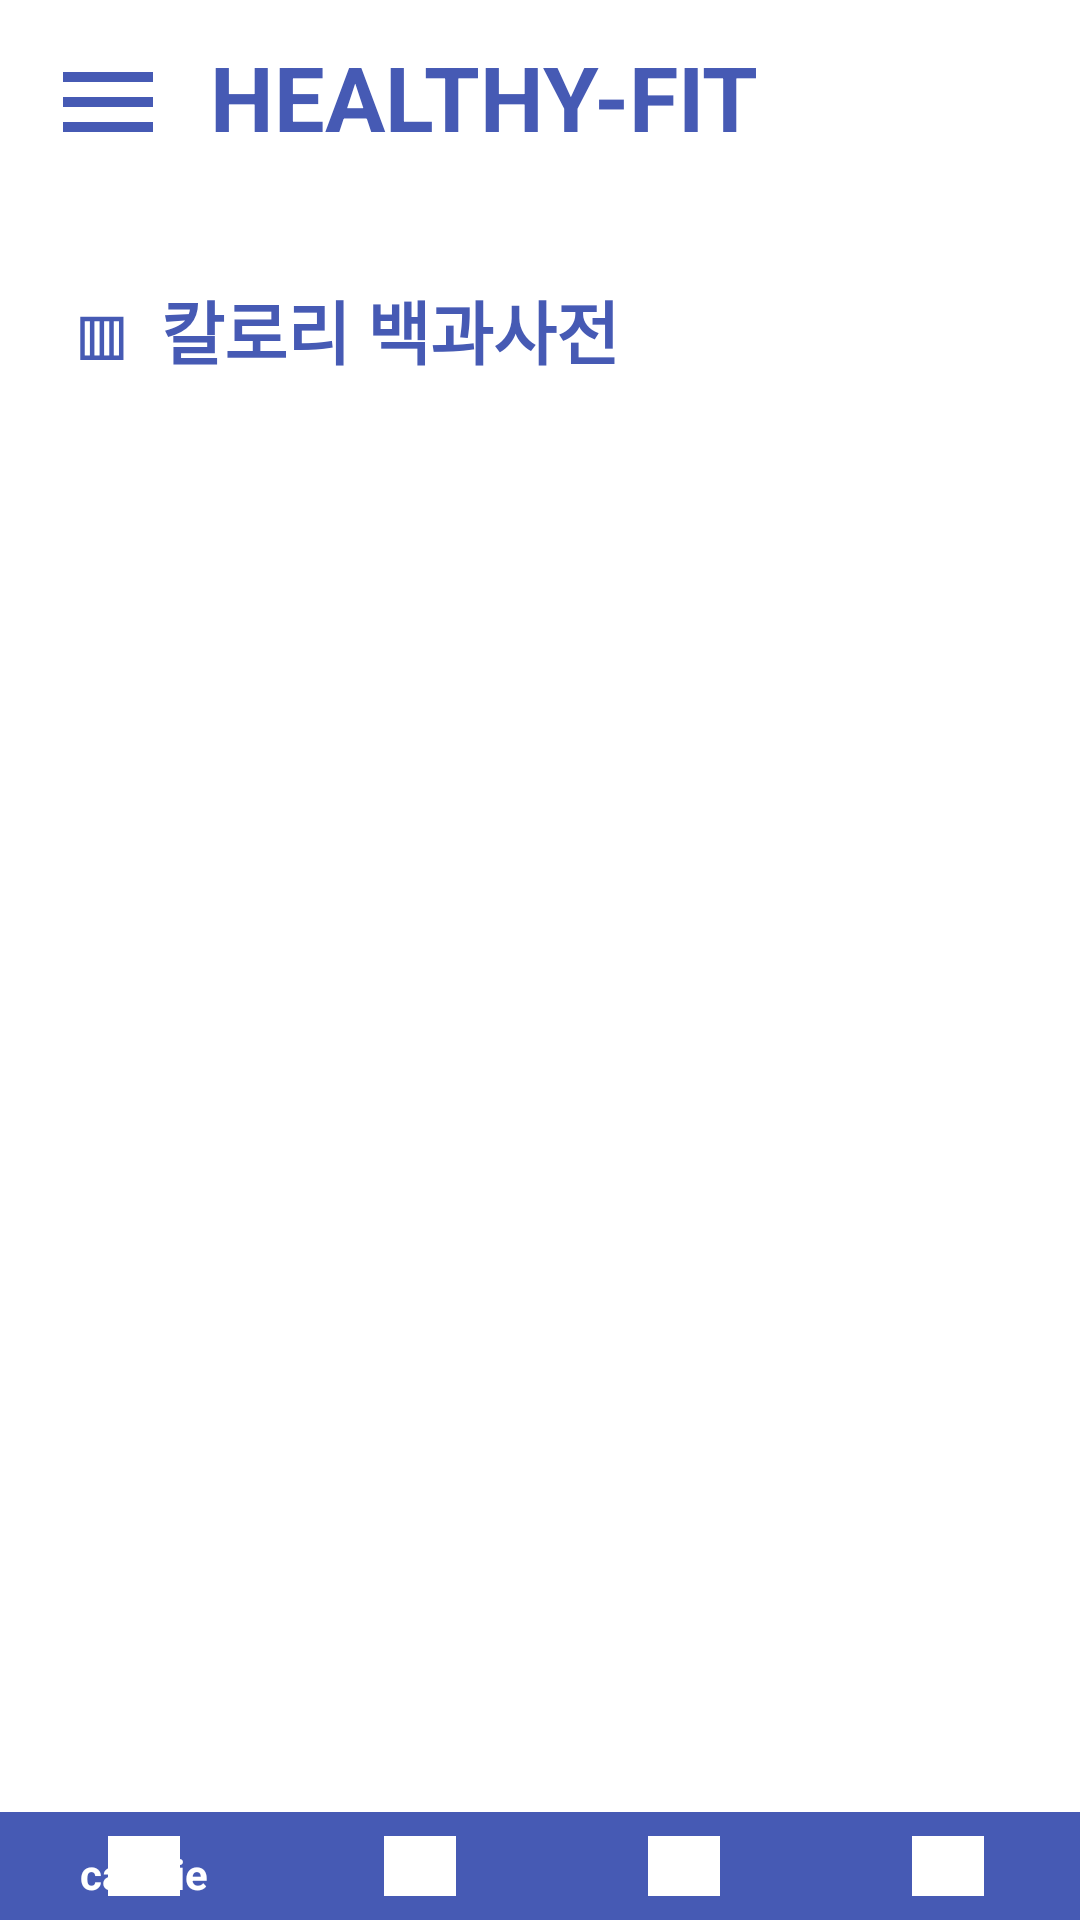

Icon click points for this 1080x1920 phone screenshot, format [x,y]:
menu: [108,102]
